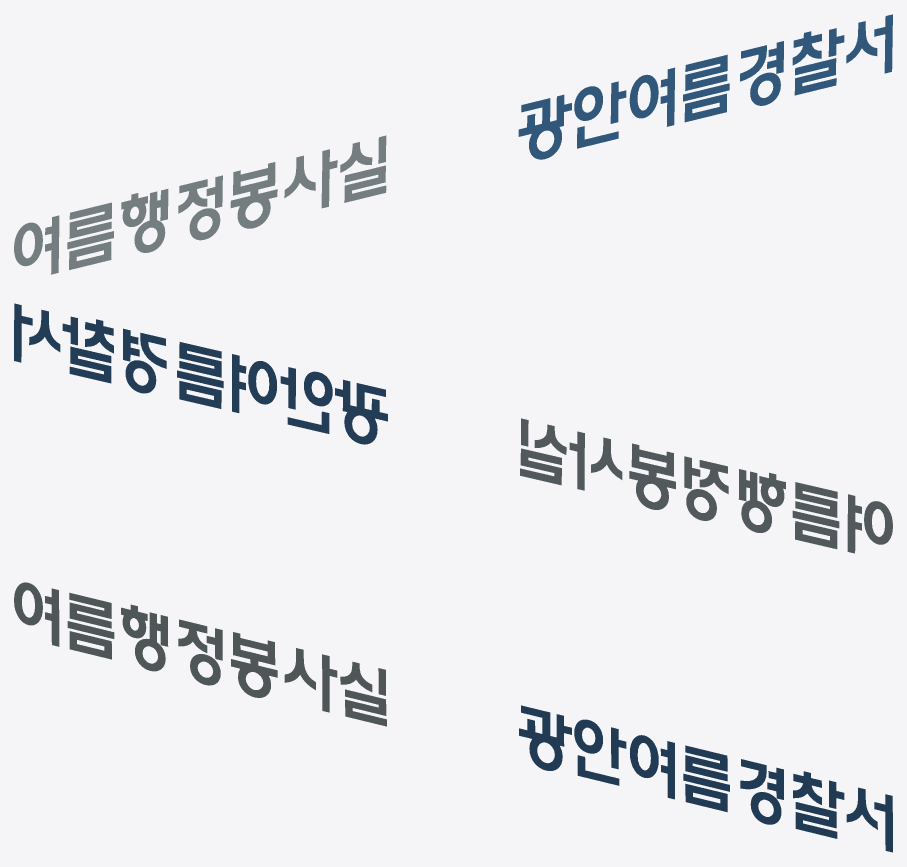
Rendered from 관공소이름판.fbx.
3 renders of one model, top to bottom at view 1: azimuth 30°, elevation 25°; view 2: azimuth 150°, elevation 25°; view 3: azimuth 330°, elevation 25°, orthographic.
Visible parts, largest first — view 1: 관광소이름; view 2: 관광소이름; view 3: 관광소이름.
Part boxes in pixels (box(x1,y1,x2,y2)): 관광소이름: box(14, 14, 892, 274); 관광소이름: box(14, 303, 892, 553); 관광소이름: box(14, 582, 892, 852).
Bounding box in the file's own units: 683 × 51.74 × 8.14.
